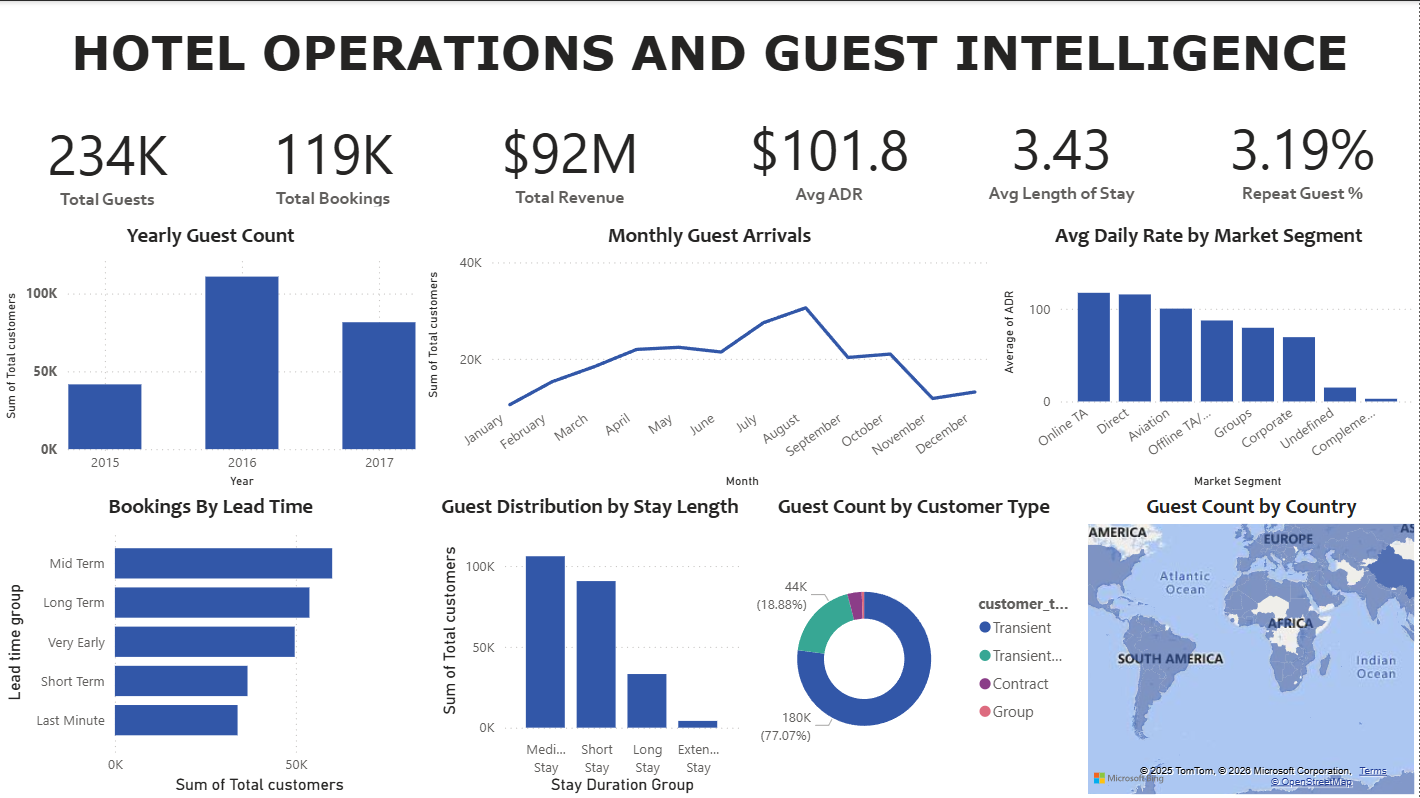

The dashboard page shown, as its layout file describes it:
{"tool":"powerbi","page":{"name":"Page 4","canvas":[1280,720],"ordinal":3},"visuals":[{"type":"card","fields":{"Values":["hotel_bookings.Total Bookings"]},"box":[208.5,100.3,183.7,90.2],"z":0},{"type":"card","fields":{"Values":["hotel_bookings.Total Guests"]},"box":[0,100.3,193.9,91.3],"z":1000},{"type":"card","fields":{"Values":["hotel_bookings.Avg ADR"]},"box":[651.5,94.7,192.7,93.6],"z":2000},{"type":"card","fields":{"Values":["hotel_bookings.Total Revenue"]},"box":[406.9,100.3,214.2,87.9],"z":3000},{"type":"card","fields":{"Values":["hotel_bookings.Avg Length of Stay"]},"box":[854.4,93.6,206.3,94.7],"z":4000},{"type":"card","fields":{"Values":["hotel_bookings.Repeat Guest %"]},"box":[1068.5,93.6,211.9,94.7],"z":5000},{"type":"textbox","box":[0,14.9,1280,85.8],"z":6000},{"type":"columnChart","title":"Yearly Guest Count","fields":{"Category":["hotel_bookings.arrival_year"],"Y":["Sum(hotel_bookings.Total customers)"]},"box":[0,199.5,379.8,244.6],"z":7000},{"type":"lineChart","title":"Monthly Guest Arrivals","fields":{"Y":["Sum(hotel_bookings.Total customers)"],"Category":["hotel_bookings.arrival_month"]},"box":[379.8,199.5,519.6,244.6],"z":8000},{"type":"clusteredColumnChart","title":"Avg Daily Rate by Market Segment ","fields":{"Category":["hotel_bookings.market_segment"],"Y":["Avg(hotel_bookings.adr)"]},"box":[899.4,199.5,381,244.6],"z":9000},{"type":"columnChart","title":"Guest Distribution by Stay Length","fields":{"Y":["Sum(hotel_bookings.Total customers)"],"Category":["hotel_bookings.Stay Duration Group"]},"box":[392.2,444.1,279.5,276.1],"z":10000},{"type":"donutChart","title":"Guest Count by Customer Type","fields":{"Category":["hotel_bookings.customer_typ"],"Y":["Sum(hotel_bookings.Total customers)"]},"box":[671.8,444.1,304.3,276.1],"z":11000},{"type":"filledMap","title":"Guest Count by Country","fields":{"Category":["hotel_bookings.country"]},"box":[976.1,444.1,304.3,276.1],"z":12000},{"type":"barChart","title":"Bookings By Lead Time","fields":{"Category":["hotel_bookings.Lead time group"],"Y":["Sum(hotel_bookings.Total customers)"]},"box":[0,444.1,379.8,276.1],"z":13000}]}

Visuals, with their boxes in screenshot pixels (x1, y1, x2, y2), scaled from the page's 1280x720 canvas onto the 1420x798 screenshot:
card - hotel_bookings.Total Bookings: box(231, 111, 435, 211)
card - hotel_bookings.Total Guests: box(0, 111, 215, 212)
card - hotel_bookings.Avg ADR: box(723, 105, 937, 209)
card - hotel_bookings.Total Revenue: box(451, 111, 689, 209)
card - hotel_bookings.Avg Length of Stay: box(948, 104, 1177, 209)
card - hotel_bookings.Repeat Guest %: box(1185, 104, 1419, 209)
textbox: box(0, 17, 1419, 112)
"Yearly Guest Count" columnChart: box(0, 221, 421, 492)
"Monthly Guest Arrivals" lineChart: box(421, 221, 998, 492)
"Avg Daily Rate by Market Segment " clusteredColumnChart: box(998, 221, 1419, 492)
"Guest Distribution by Stay Length" columnChart: box(435, 492, 745, 797)
"Guest Count by Customer Type" donutChart: box(745, 492, 1083, 797)
"Guest Count by Country" filledMap: box(1083, 492, 1419, 797)
"Bookings By Lead Time" barChart: box(0, 492, 421, 797)
